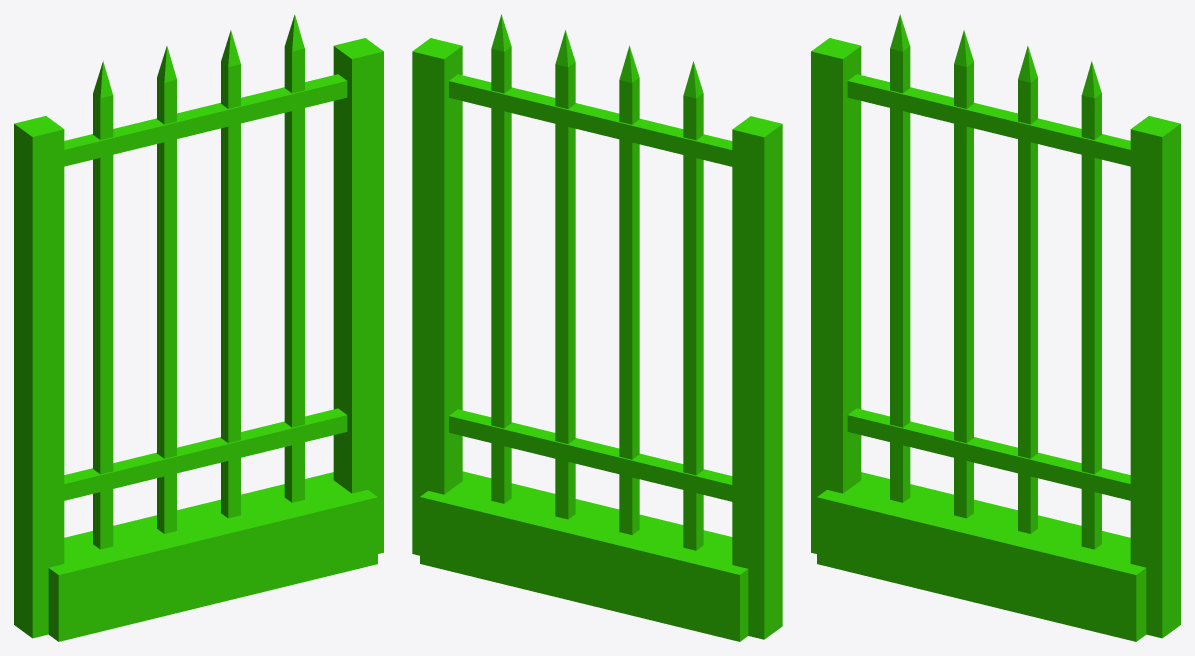
File: fence2_05.fbx
The picture shows the model from 3 angles, left to right: view 1: azimuth 30°, elevation 25°; view 2: azimuth 150°, elevation 25°; view 3: azimuth 330°, elevation 25°; orthographic projection.
Visible parts, largest first — view 1: fence2_05; view 2: fence2_05; view 3: fence2_05.
Part boxes in pixels (<box>): fence2_05: <box>14,14,383,641</box>; fence2_05: <box>412,14,782,641</box>; fence2_05: <box>811,14,1180,641</box>.
Bounding box in the file's own units: 110 × 165 × 20.
